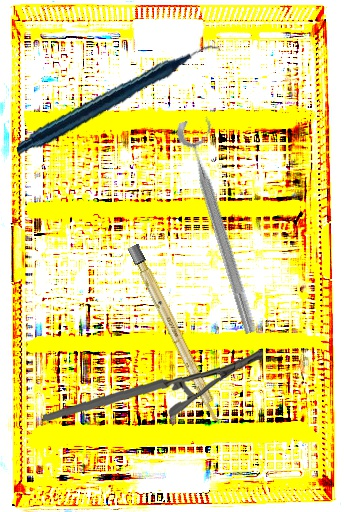Fixation Ring: (174, 113, 275, 337)
Handpiece: (16, 20, 221, 181)
Needle Holder: (42, 336, 264, 435)
Scalpel Handle: (127, 243, 225, 427)
